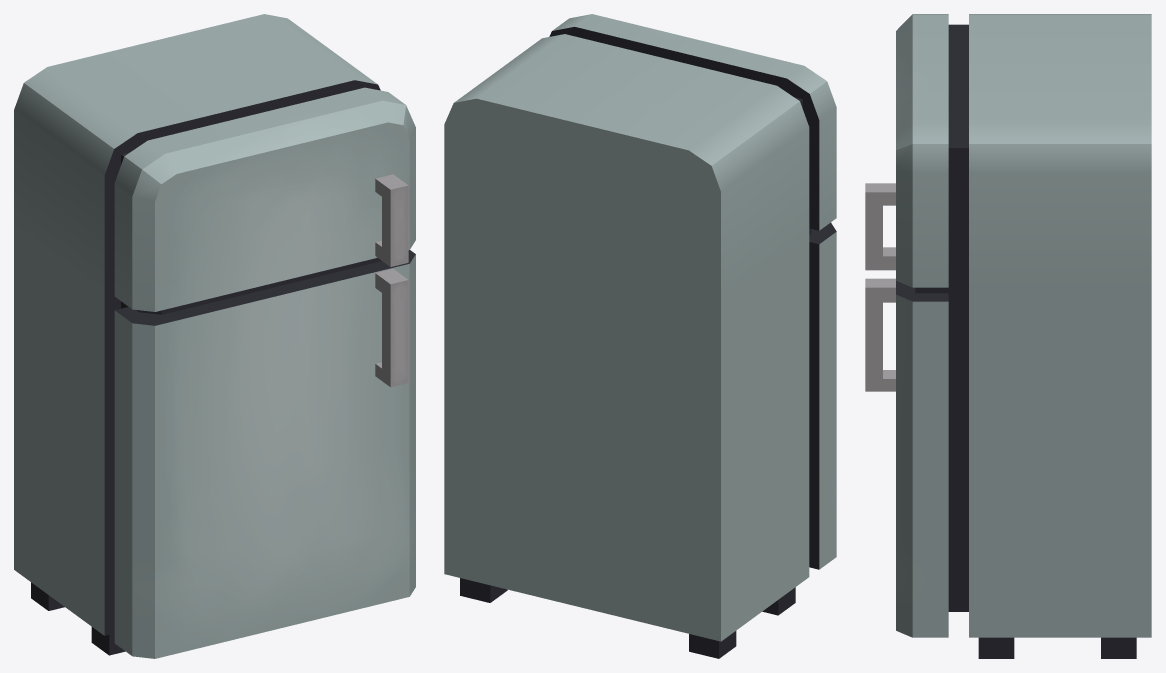
The model's file is fridge.fbx.
The picture shows the model from 3 angles, left to right: view 1: azimuth 30°, elevation 25°; view 2: azimuth 150°, elevation 25°; view 3: azimuth 270°, elevation 25°; orthographic projection. The views are drawn at different scales.
Visible parts, largest first — view 1: pCube4; view 2: pCube4; view 3: pCube4.
Boxes of the visible parts, box(x1,y1,x2,y2) form: pCube4: box(14, 14, 415, 658); pCube4: box(444, 14, 836, 658); pCube4: box(865, 14, 1151, 658).
Bounding box in the file's own units: 18.83 × 33.02 × 16.32.
Materials: 1 (1 with a texture image).
